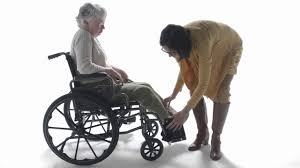wheelchair: (42, 2, 187, 165)
